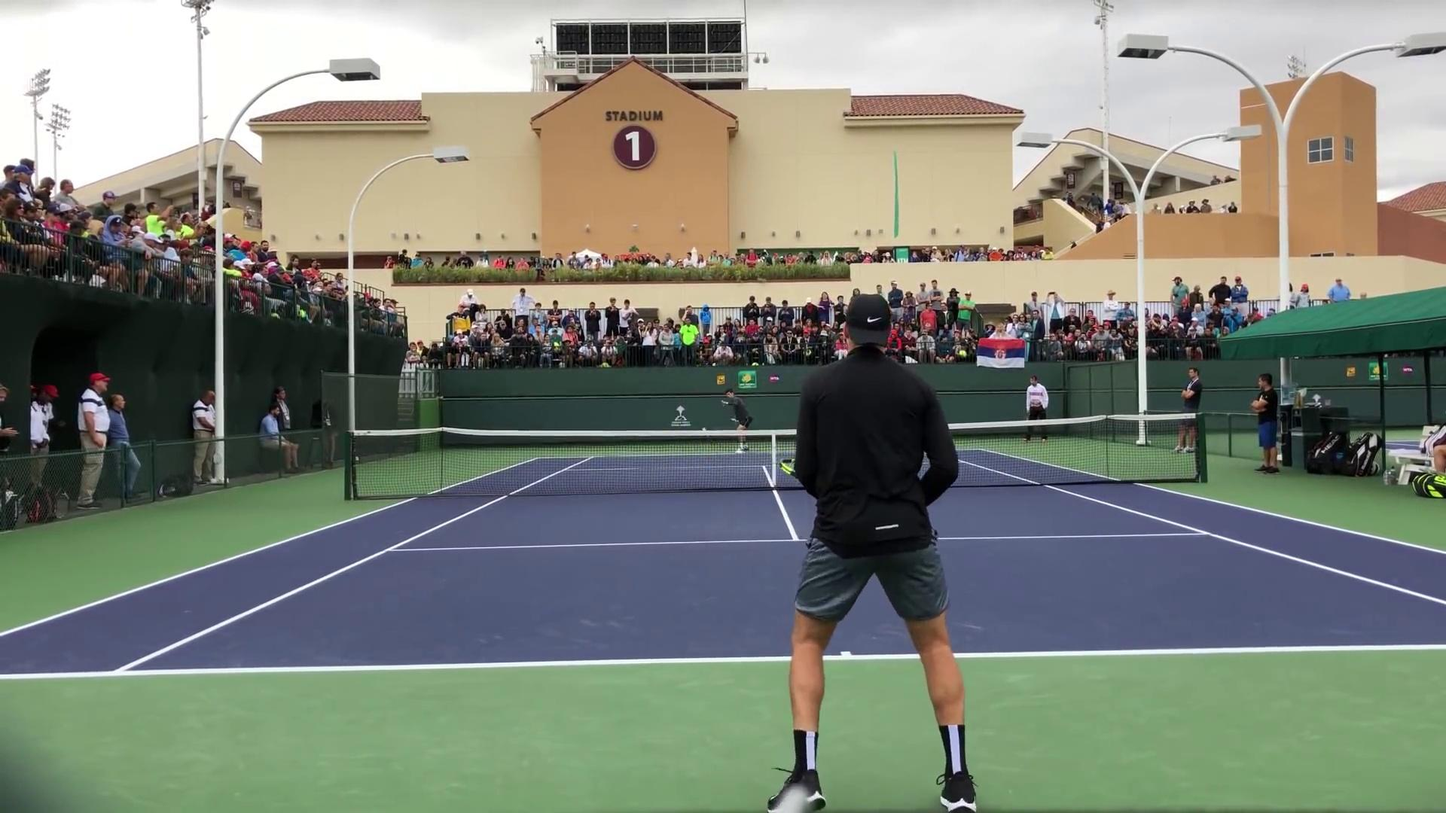ball: (699, 427, 709, 431)
